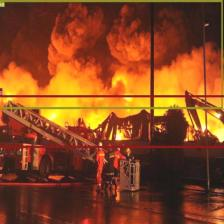fire: (0, 95, 224, 148)
smoke: (0, 0, 222, 108)
